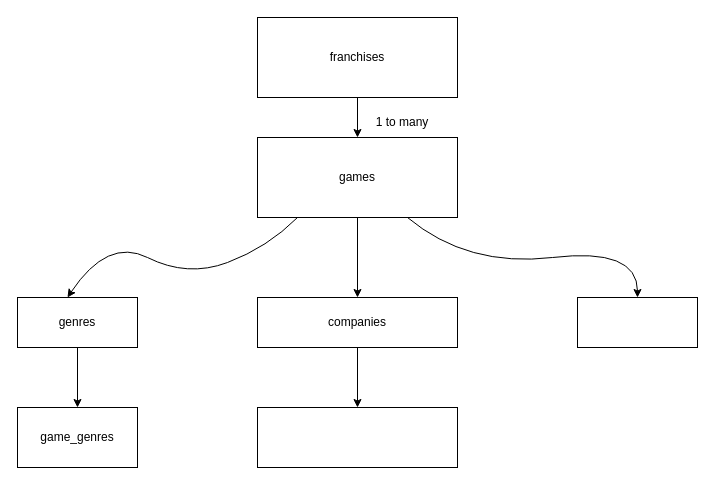
The diagram is 715 pixels wide and 485 high, and some of its shapes have lost their labels. The shapes that lost their labels are listed below. From the top down, each one's centre as x and y in pixels, then its label:
At (637,322): "similar_games".
At (357,437): "game_companies".
